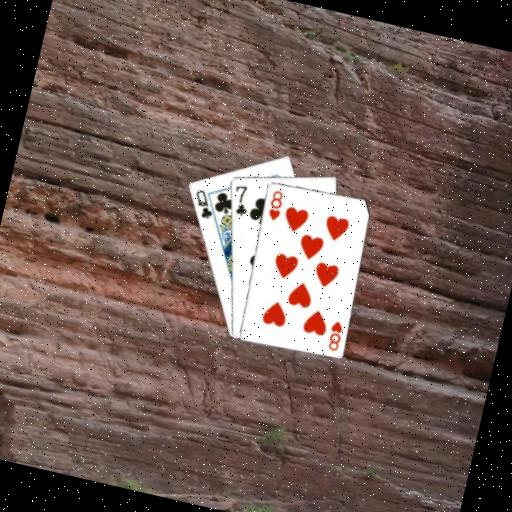7C: (227, 180, 255, 218)
8H: (263, 186, 287, 224), (323, 316, 346, 353)
QC: (187, 185, 219, 222)
